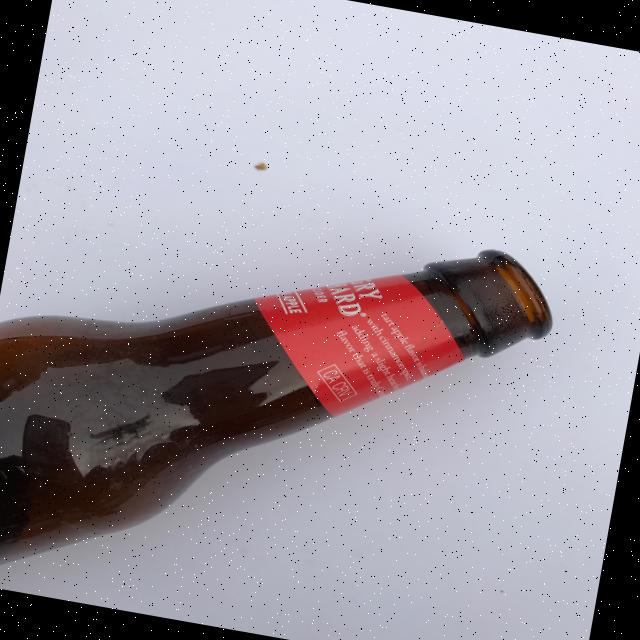glass: (0, 164, 563, 640)
